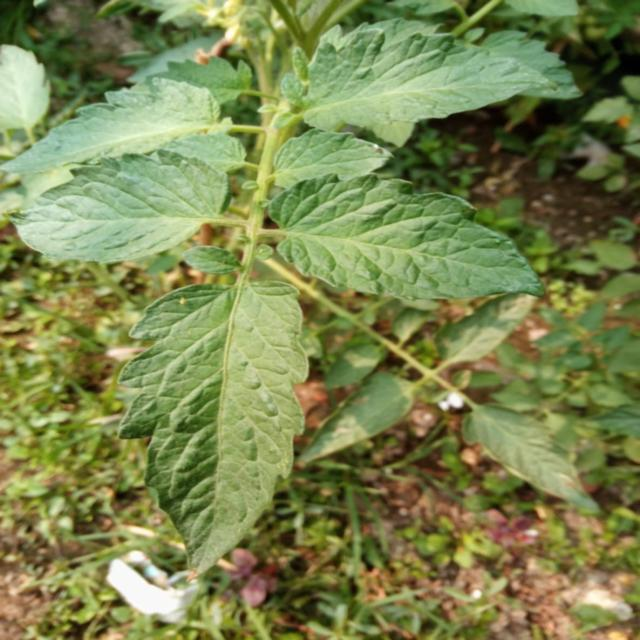Healthy: (117, 281, 311, 573), (263, 165, 553, 312), (4, 133, 241, 284), (295, 11, 553, 133)
